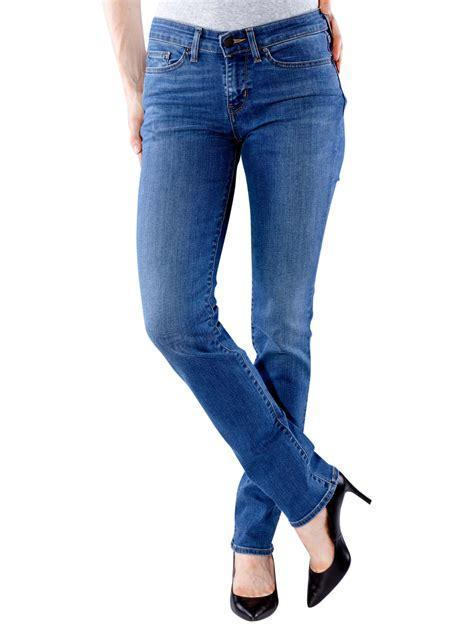pants: (138, 11, 348, 553)
